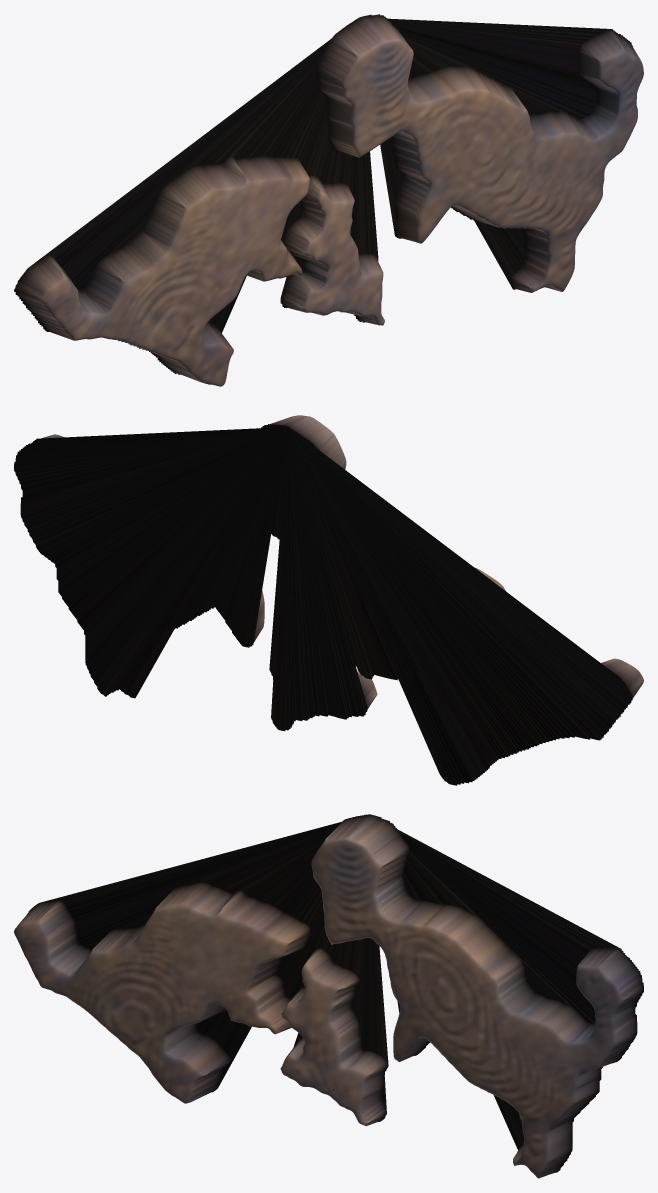
The model's file is rock_9_hollow.glb.
The picture shows the model from 3 angles, top to bottom: view 1: azimuth 30°, elevation 25°; view 2: azimuth 150°, elevation 25°; view 3: azimuth 330°, elevation 25°; orthographic projection.
Parts seen in each view (by area): view 1: GLTF; view 2: GLTF; view 3: GLTF.
Boxes of the visible parts, x1,y1,x2,y2 form: GLTF: [14, 14, 643, 386]; GLTF: [14, 415, 643, 785]; GLTF: [14, 814, 643, 1178].
Bounding box in the file's own units: 7.65 × 3.76 × 0.5707.
